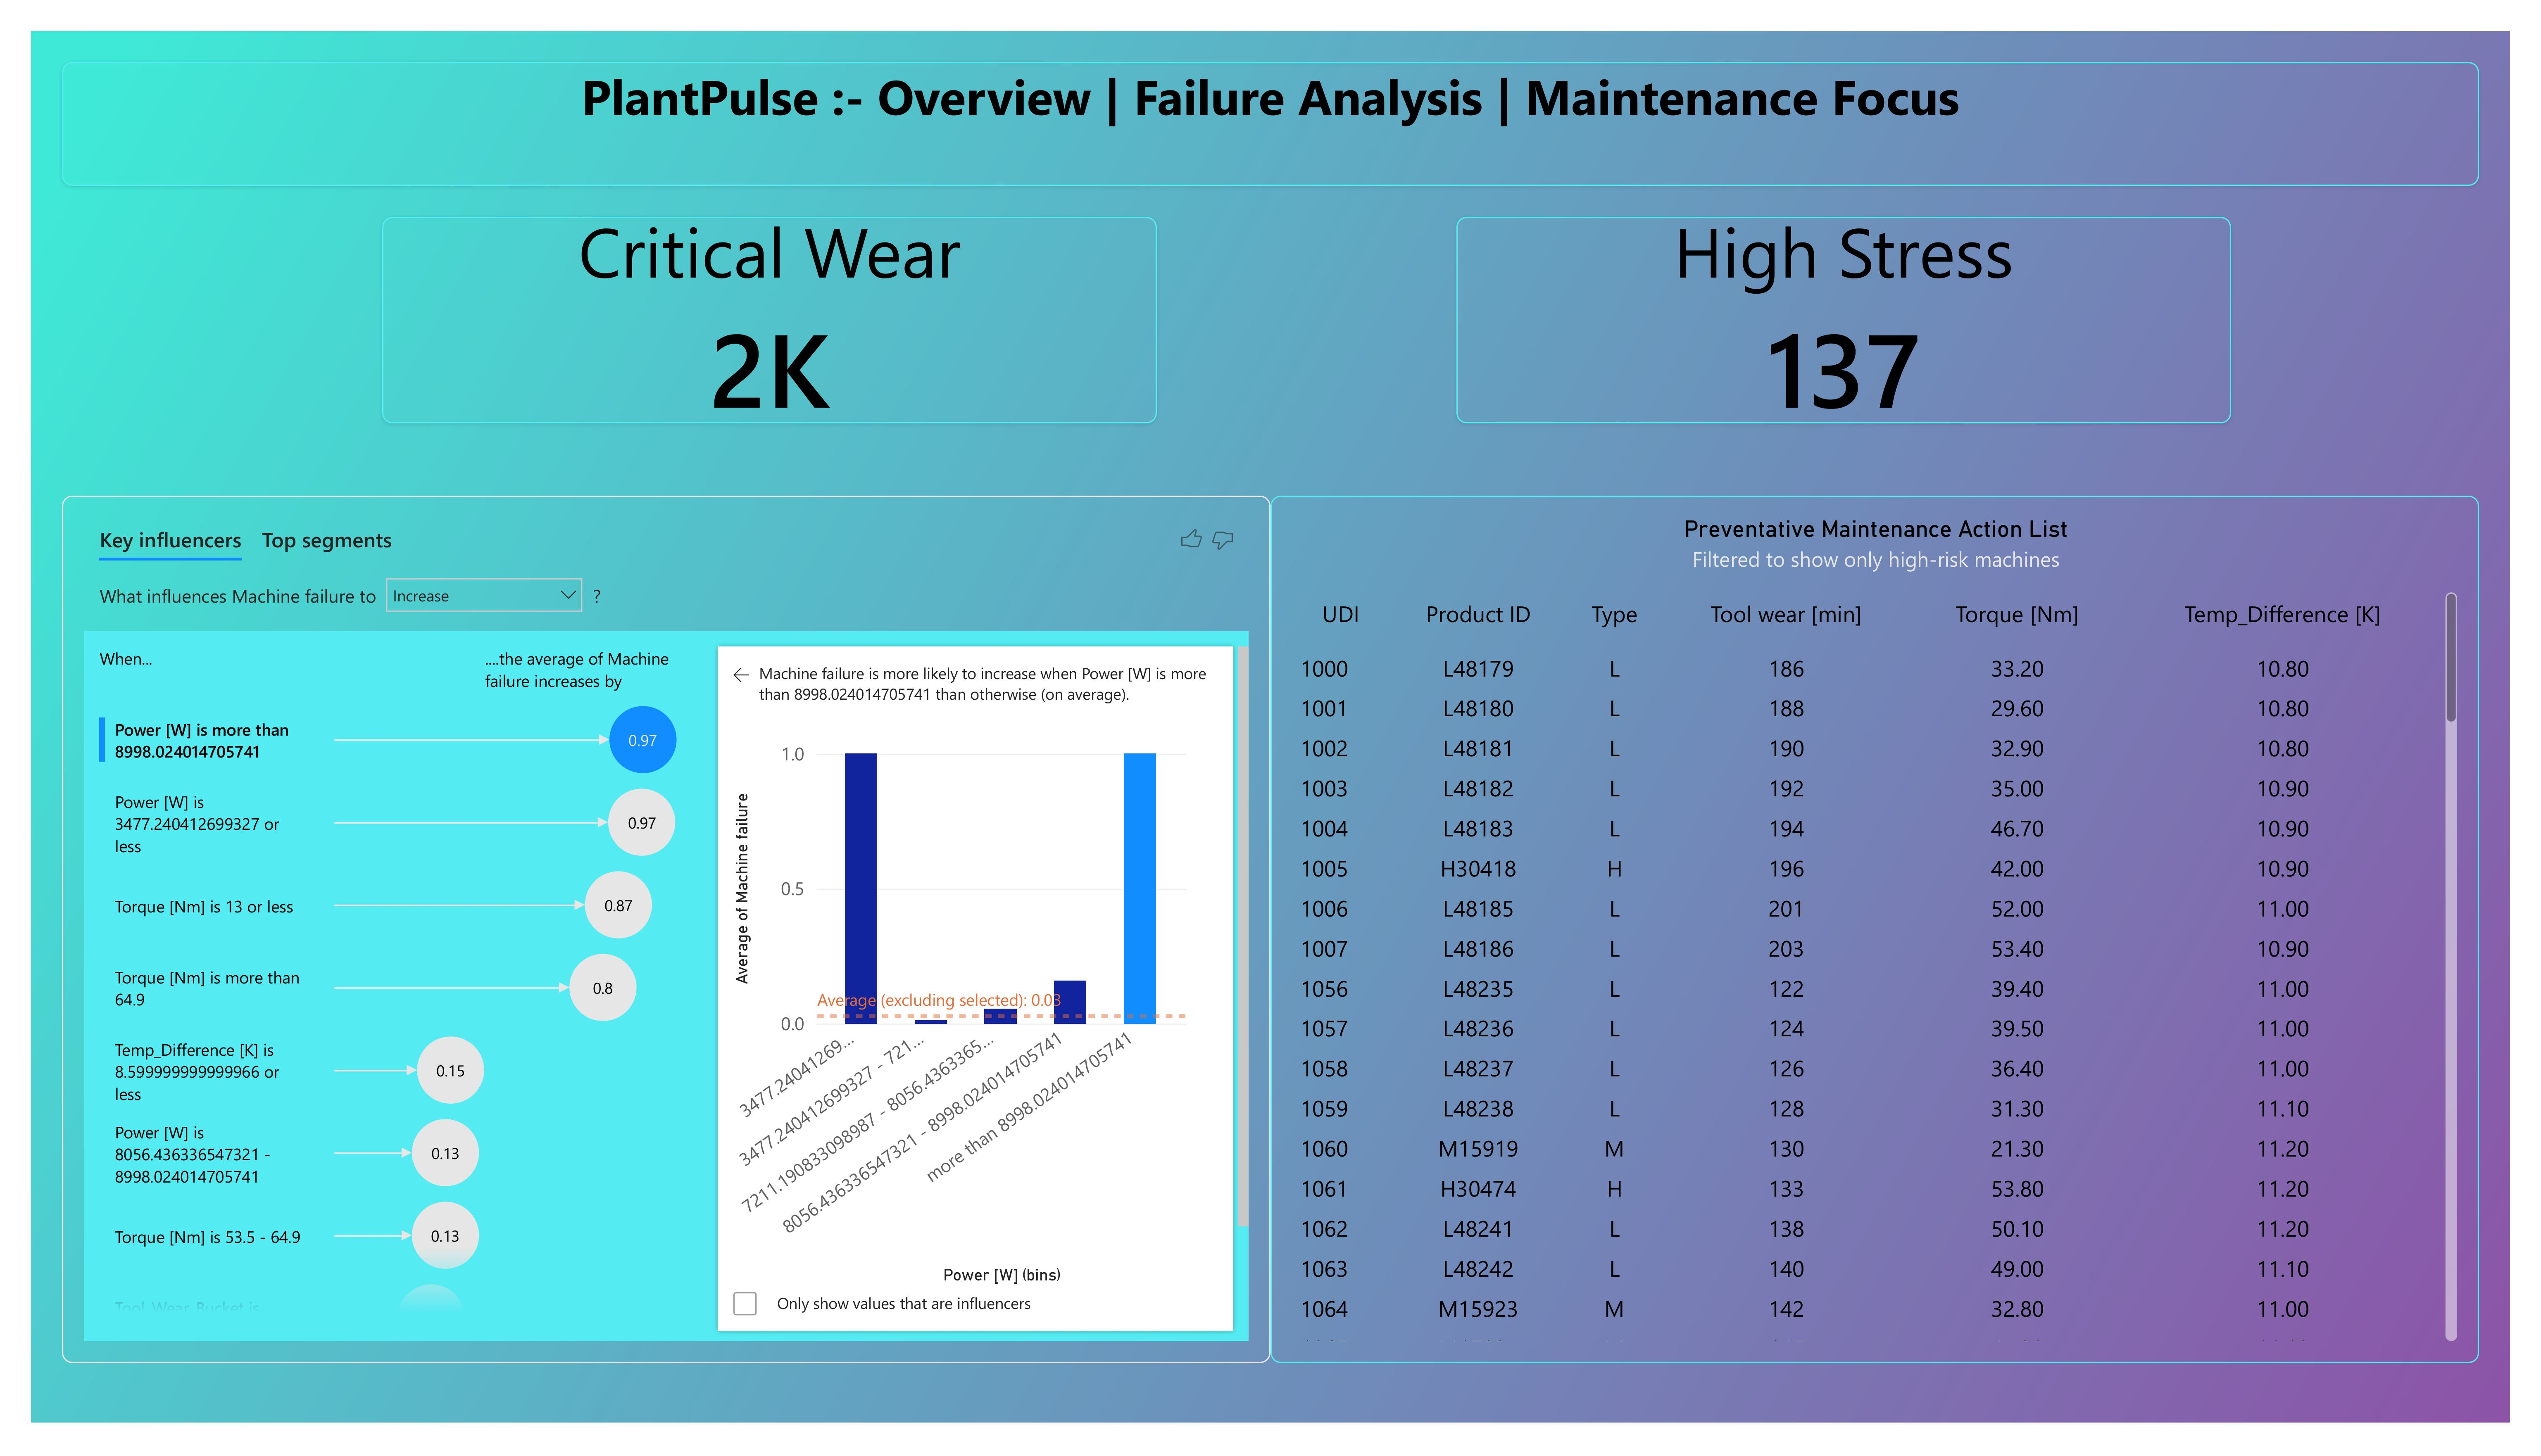

Layout of this report page (visuals, bound fields, positions):
{"tool":"powerbi","page":{"name":"Page 3","canvas":[1920,1080],"ordinal":2},"visuals":[{"type":"textbox","box":[24,24,1872,96],"z":0},{"type":"cardVisual","title":"At-Risk: Critical Wear","fields":{"Data":["_Measures.Critical Wear"]},"box":[272,144,600,160],"z":1000},{"type":"cardVisual","fields":{"Data":["_Measures.High Stress"]},"box":[1104,144,600,160],"z":2000},{"type":"keyDriversVisual","fields":{"ExplainBy":["plantpulse_processed.Tool_Wear_Bucket","plantpulse_processed.Type","plantpulse_processed.Torque [Nm]","plantpulse_processed.Temp_Difference [K]","plantpulse_processed.Power [W]"],"Target":["plantpulse_processed.Machine failure"]},"box":[24,360,936,672],"z":2001},{"type":"tableEx","title":"Preventative Maintenance Action List","fields":{"Values":["plantpulse_processed.UDI","plantpulse_processed.Product ID","plantpulse_processed.Type","plantpulse_processed.Tool wear [min]","plantpulse_processed.Torque [Nm]","plantpulse_processed.Temp_Difference [K]"]},"box":[960,360,936,672],"z":2002}]}

Visuals, with their boxes on the page's 1920x1080 design canvas (x1, y1, x2, y2). These are canvas units, not pixel positions in the 2541x1456 screenshot, which may show the page scaled, cropped or inside an application window:
textbox: bbox=(24, 24, 1896, 120)
"At-Risk: Critical Wear" cardVisual: bbox=(272, 144, 872, 304)
cardVisual - _Measures.High Stress: bbox=(1104, 144, 1704, 304)
keyDriversVisual - plantpulse_processed.Tool_Wear_Bucket x plantpulse_processed.Type: bbox=(24, 360, 960, 1032)
"Preventative Maintenance Action List" tableEx: bbox=(960, 360, 1896, 1032)
